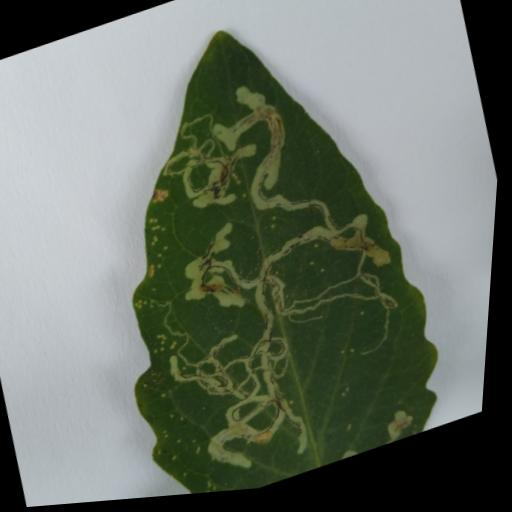Leaf_Miner: (42, 0, 483, 508)
